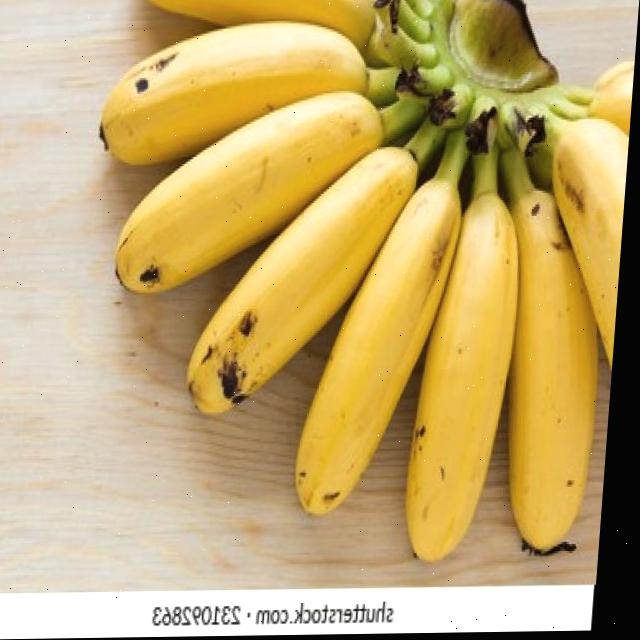banana: (62, 0, 640, 574)
